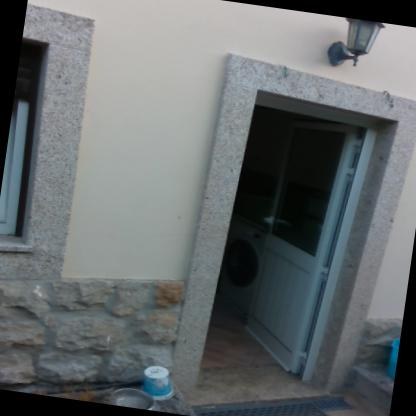semi: (178, 70, 416, 415)
